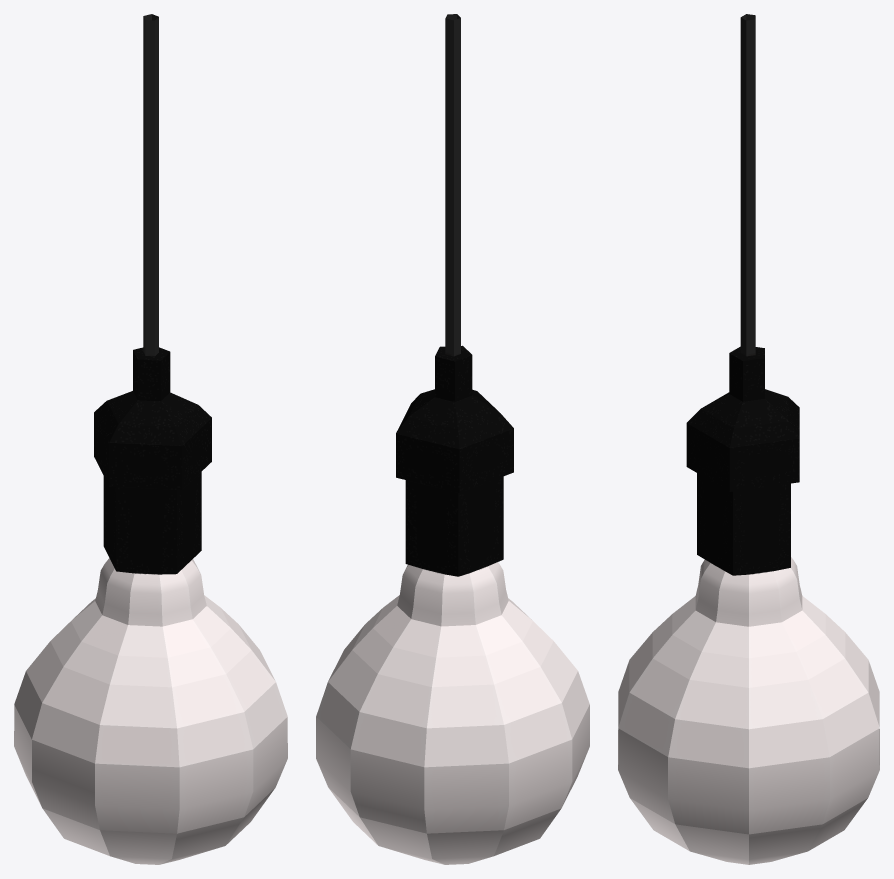
File: light.fbx
The picture shows the model from 3 angles, left to right: view 1: azimuth 30°, elevation 25°; view 2: azimuth 150°, elevation 25°; view 3: azimuth 270°, elevation 25°; orthographic projection.
Parts seen in each view (by area): view 1: pCylinder1, polySurface2; view 2: pCylinder1, polySurface2; view 3: pCylinder1, polySurface2.
Part boxes in pixels (box(x1,y1,x2,y2)): pCylinder1: box(14, 347, 287, 864); polySurface2: box(143, 14, 158, 356); pCylinder1: box(316, 345, 589, 864); polySurface2: box(445, 14, 460, 356); pCylinder1: box(618, 346, 879, 864); polySurface2: box(740, 14, 755, 356).
Size of the model in its own units: 13.71 by 45.71 by 13.04.
